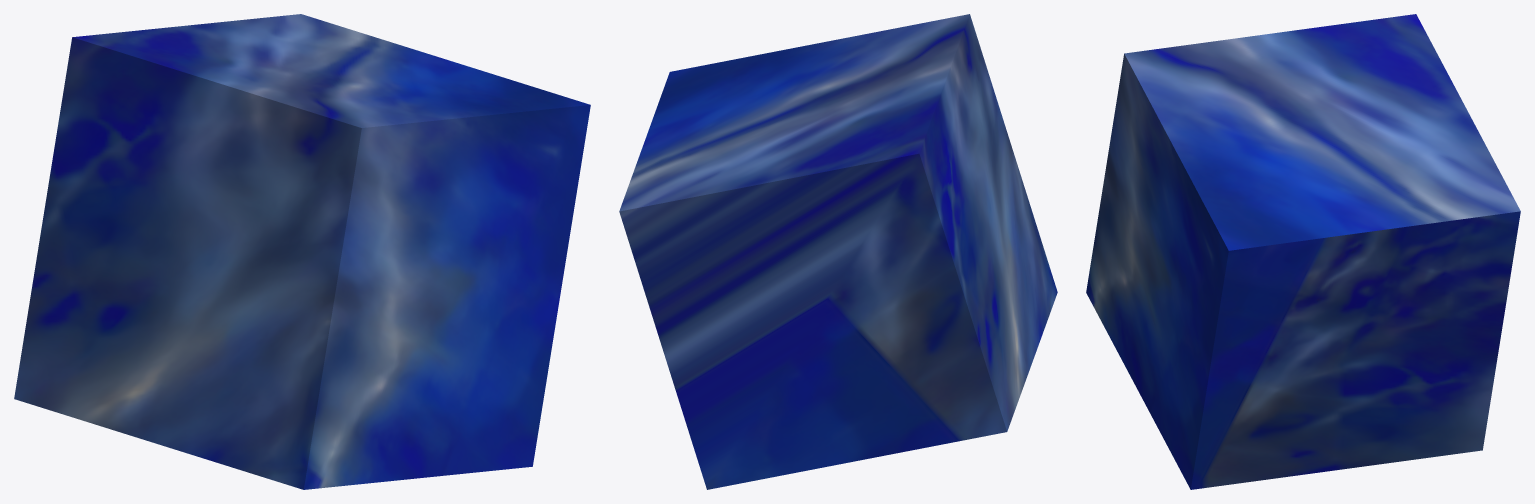
Rendered from BlueBlocks_11.gltf.
3 renders of one model, left to right at view 1: azimuth 30°, elevation 25°; view 2: azimuth 150°, elevation 25°; view 3: azimuth 270°, elevation 25°, orthographic. The views are drawn at different scales.
Visible parts, largest first — view 1: BlueBlocks_11; view 2: BlueBlocks_11; view 3: BlueBlocks_11.
Boxes of the visible parts, x1,y1,x2,y2 form: BlueBlocks_11: [14, 14, 590, 489]; BlueBlocks_11: [619, 14, 1057, 489]; BlueBlocks_11: [1086, 14, 1520, 489].
Size of the model in its own units: 7.81 by 6.55 by 7.21.
Materials: 1 (1 with a texture image).
